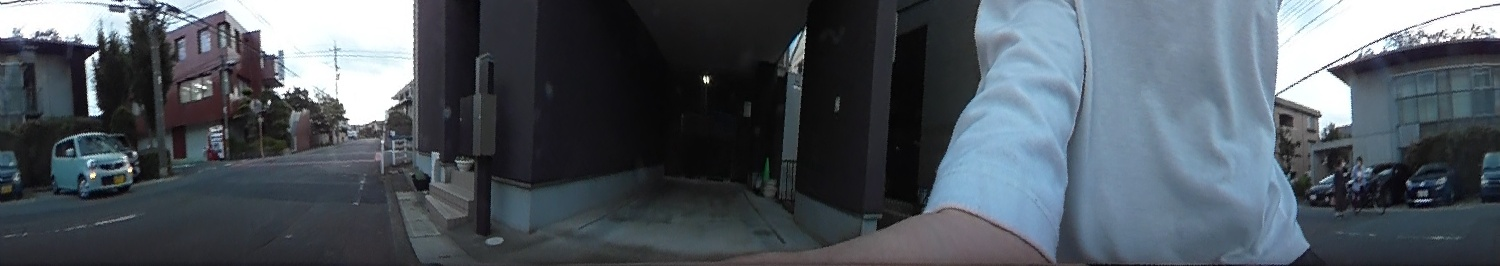difficult_person: (1329, 155, 1348, 212), (1350, 153, 1367, 216)
